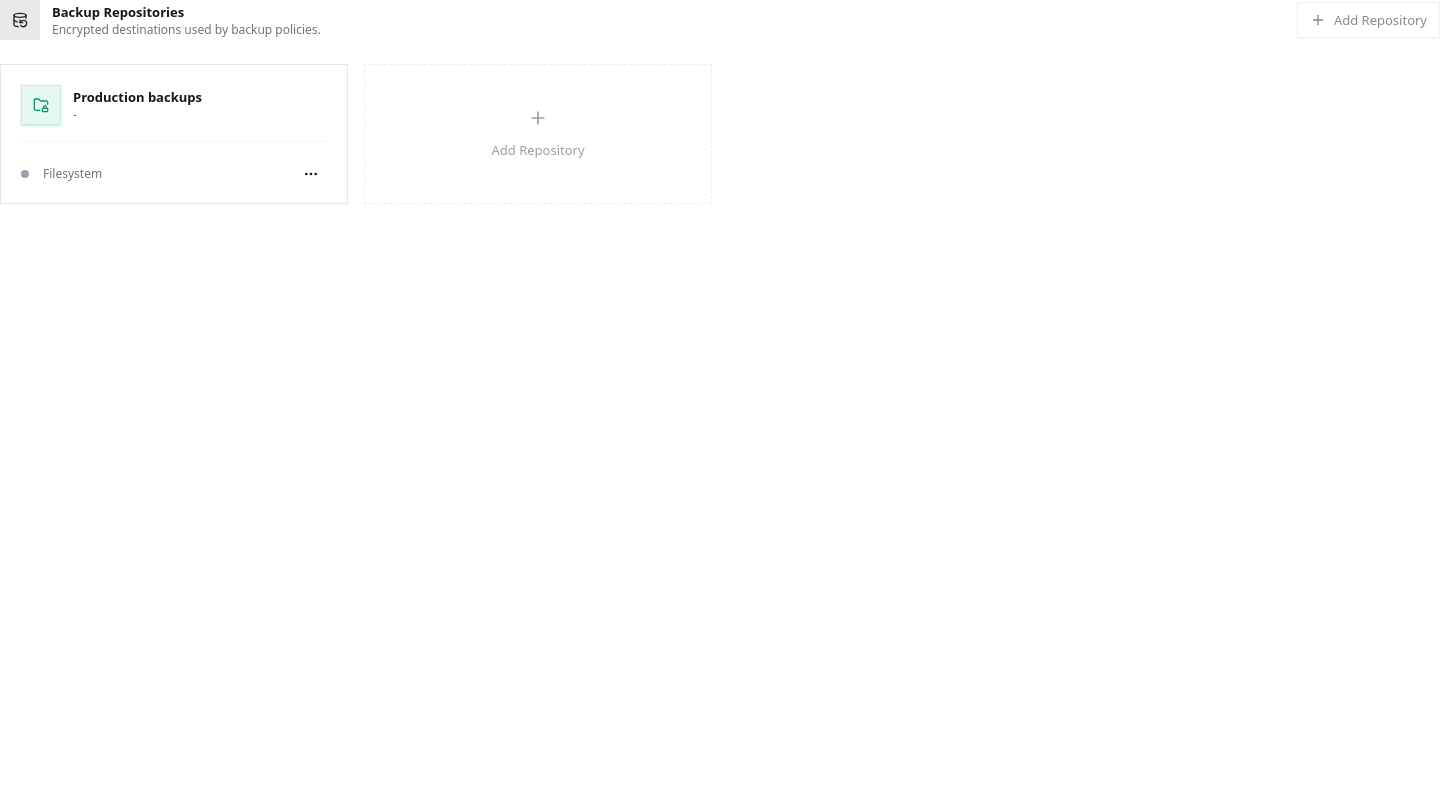
Test: explains read-only access and hides saving
Click the heading "Production backups". click: (137, 97)
box: left=73, top=87, right=202, bottom=107
(page scrolled)
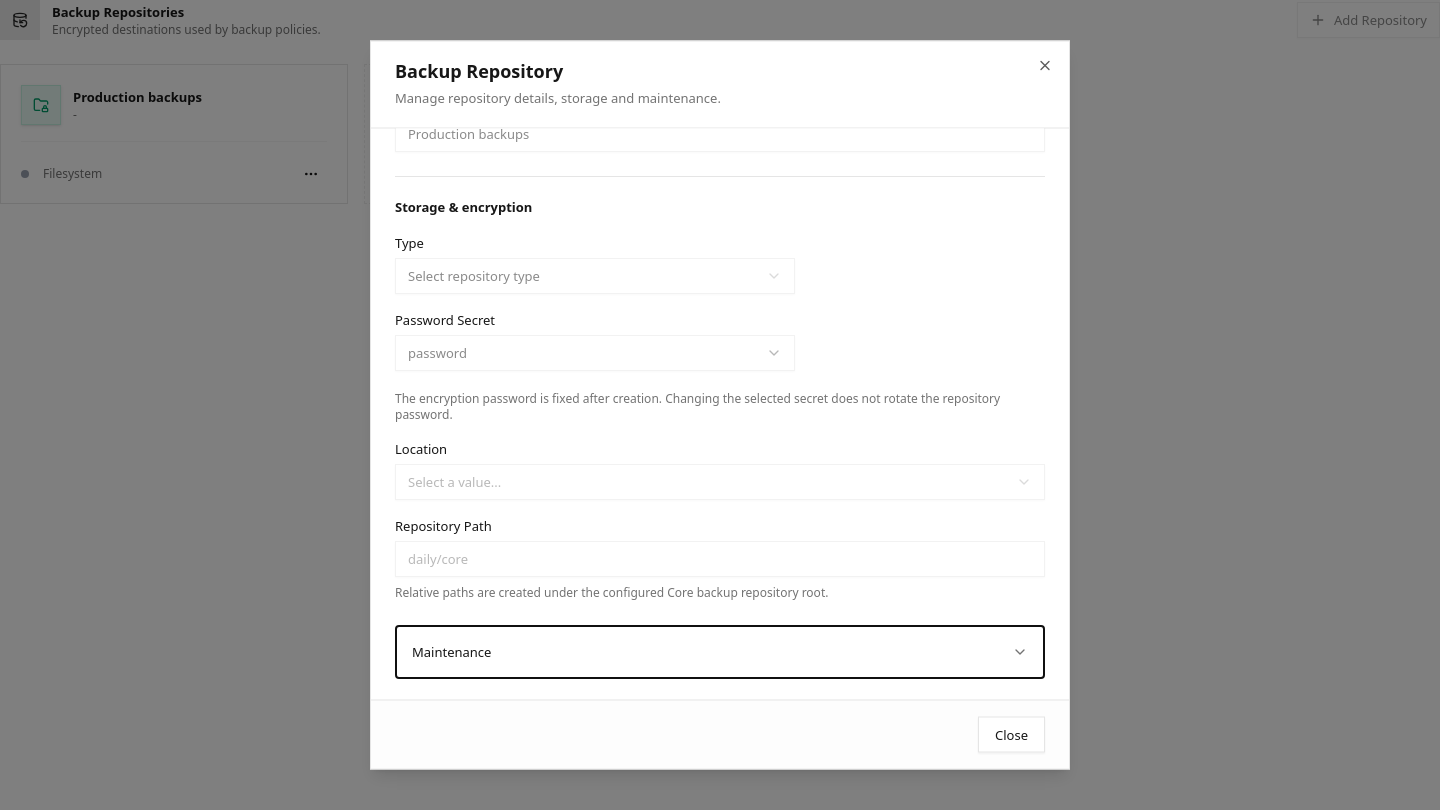
Check: the field labelled "Name" is disabled, box left=395, top=128, right=1045, bottom=152
Click the heading "Maintenance". click: (452, 652)
box: left=412, top=644, right=1028, bottom=662
(page scrolled)
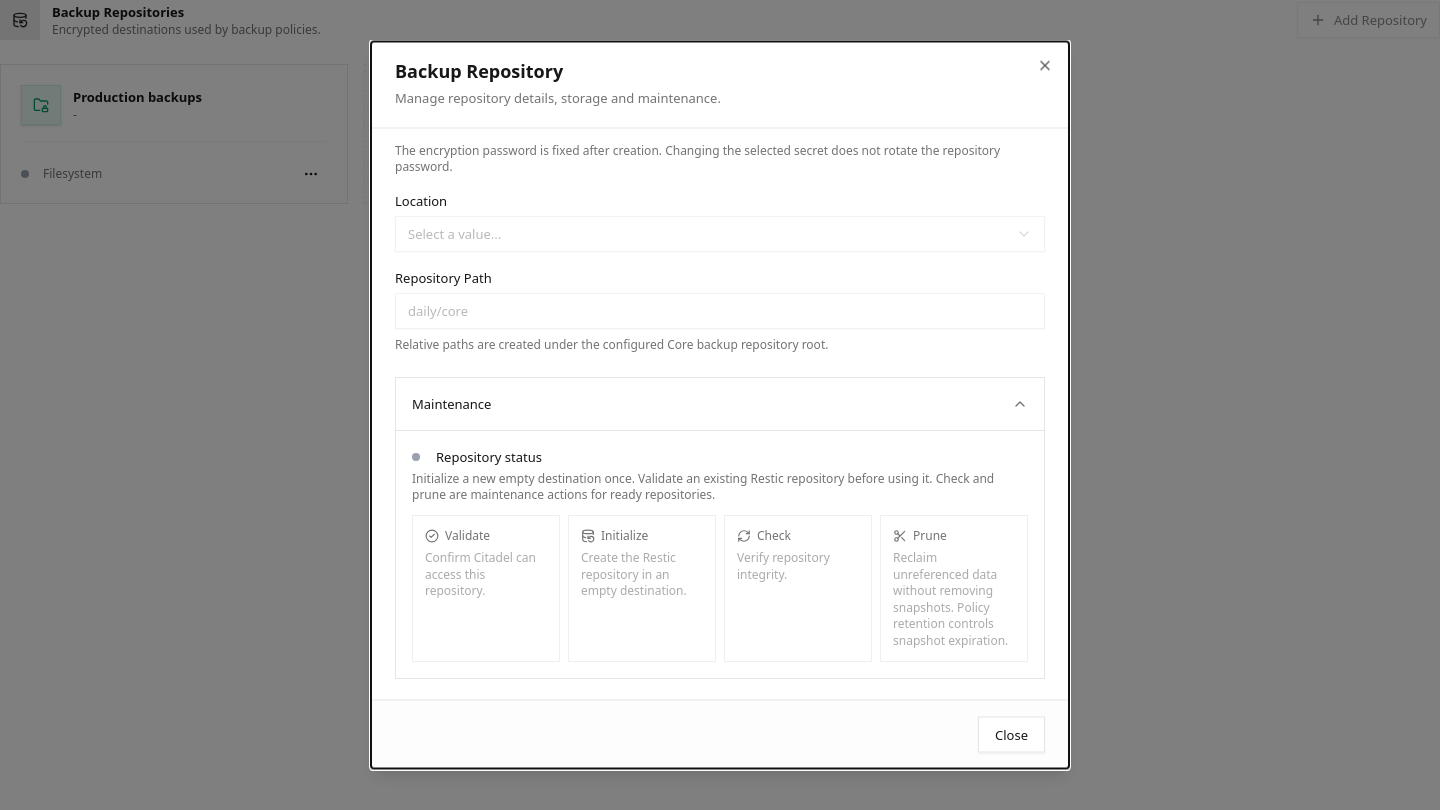
Check: the button "Validate Confirm Citadel can access this repository." is disabled, box left=412, top=516, right=560, bottom=662
